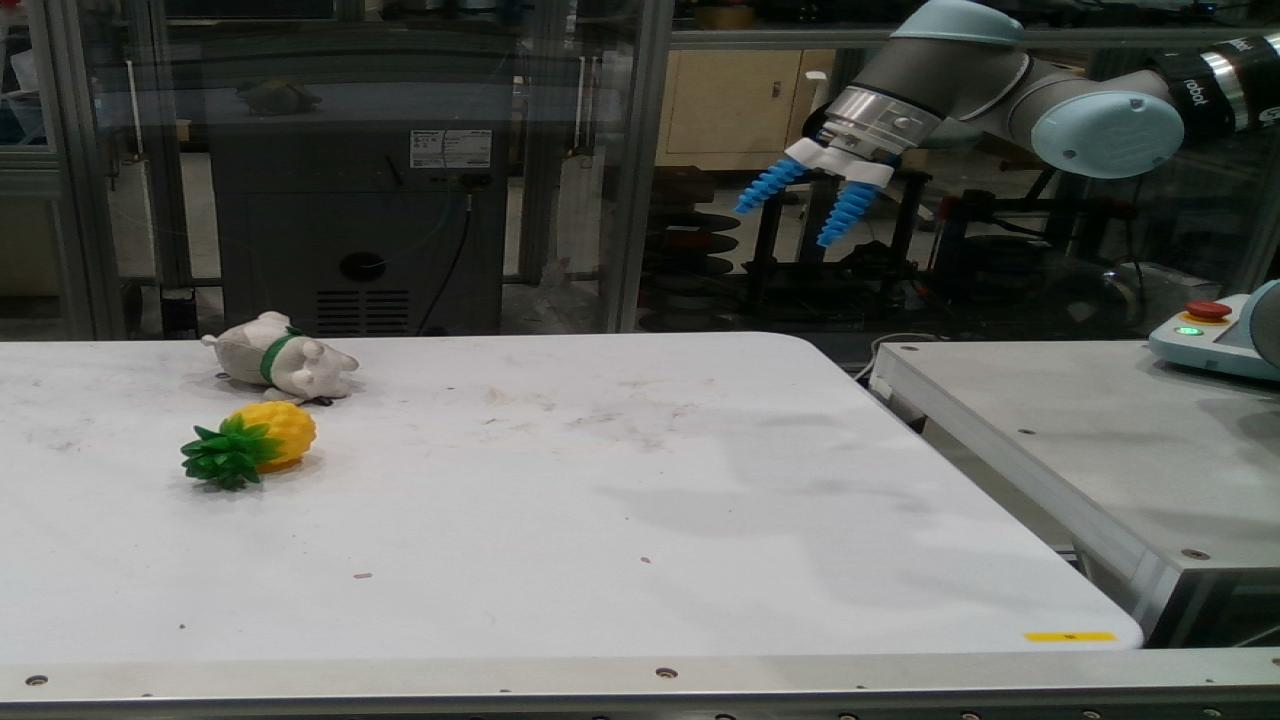UR5: (786, 0, 1278, 184)
gripper_left: (738, 161, 796, 213)
gripper_right: (822, 181, 874, 246)
target: (206, 310, 358, 405), (182, 403, 314, 489)
